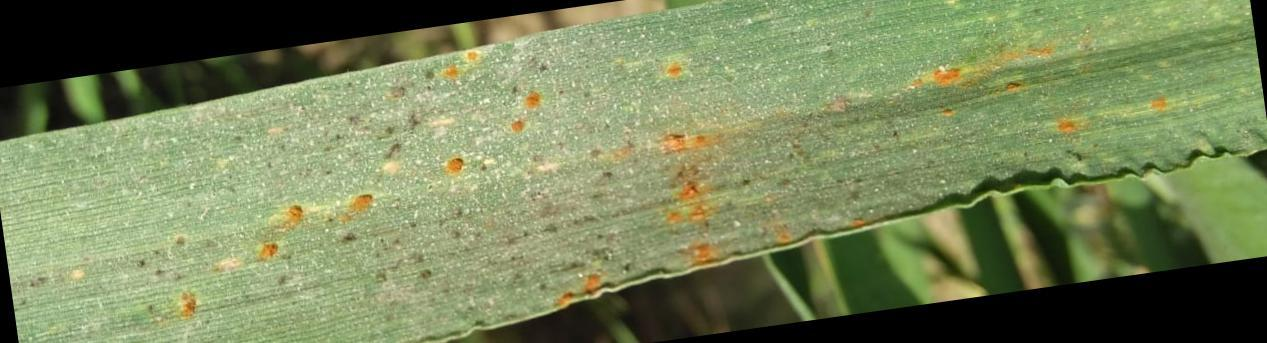Wheat: (71, 140, 632, 291), (891, 36, 1193, 142), (394, 59, 772, 128), (648, 134, 795, 249)
